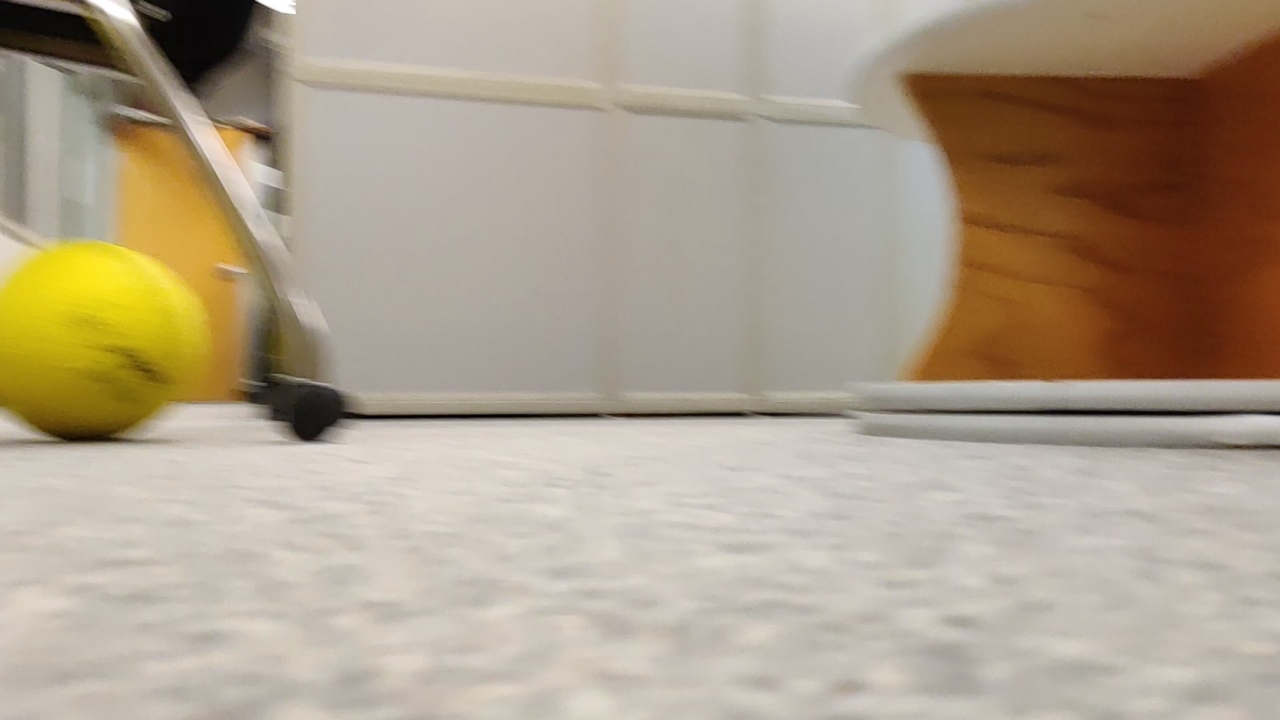Ball: (1, 236, 196, 443)
